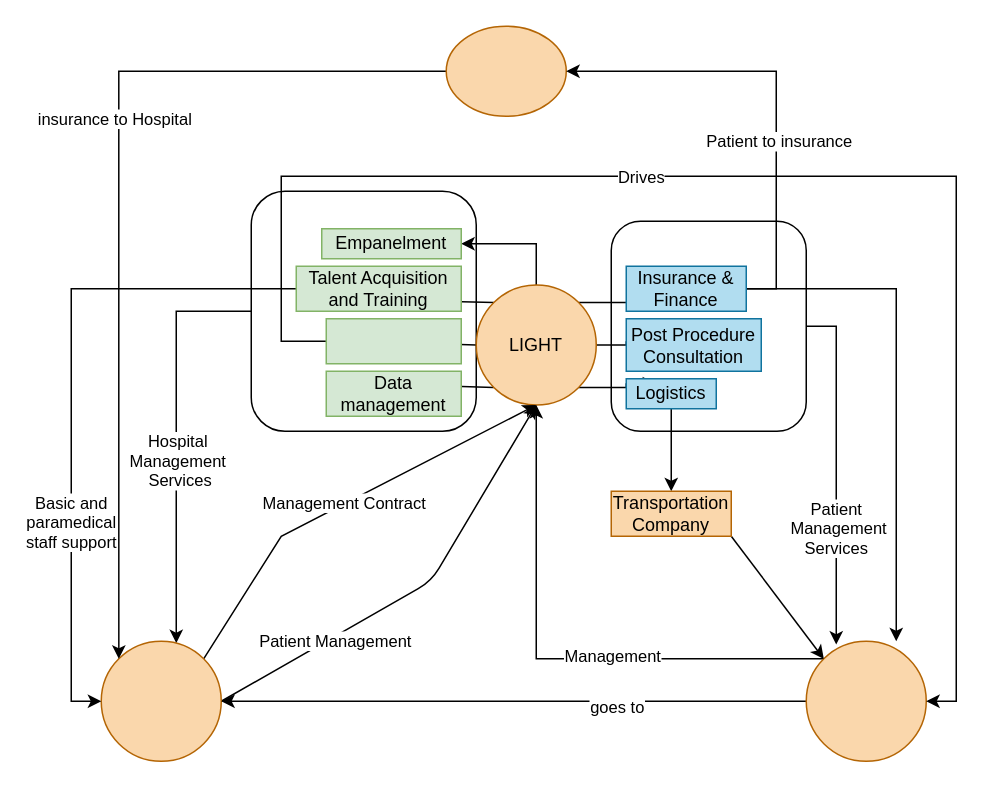
The diagram is 995 pixels wide and 788 high, and some of its shapes have lost their labels. The shapes that lost their labels are listed below. From the top down, each one's centre as x and y in pixels, then its label:
pixel 505 70: Insurance Company
pixel 393 340: Advertising Support
pixel 160 700: Hospital
pixel 865 700: Patient
